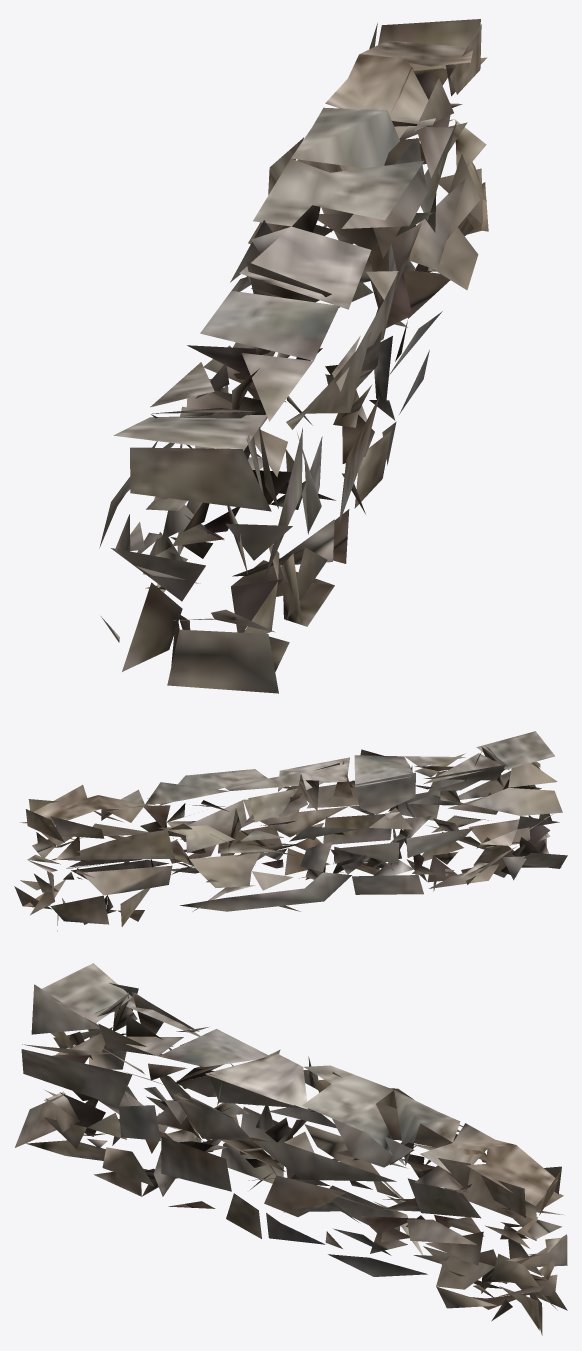
File: serra_trockenmauer_lo.glb
3 views of the same model, one above another, from view 1: azimuth 30°, elevation 25°; view 2: azimuth 150°, elevation 25°; view 3: azimuth 270°, elevation 25° (orthographic). The views are drawn at different scales.
Visible parts, largest first — view 1: Prop; view 2: Prop; view 3: Prop.
Boxes of the visible parts, x1,y1,x2,y2 form: Prop: (99,19,488,693); Prop: (14,731,567,931); Prop: (15,963,567,1335).
Size of the model in its own units: 3.23 by 1.17 by 3.24.
1 material, 1 textured.
